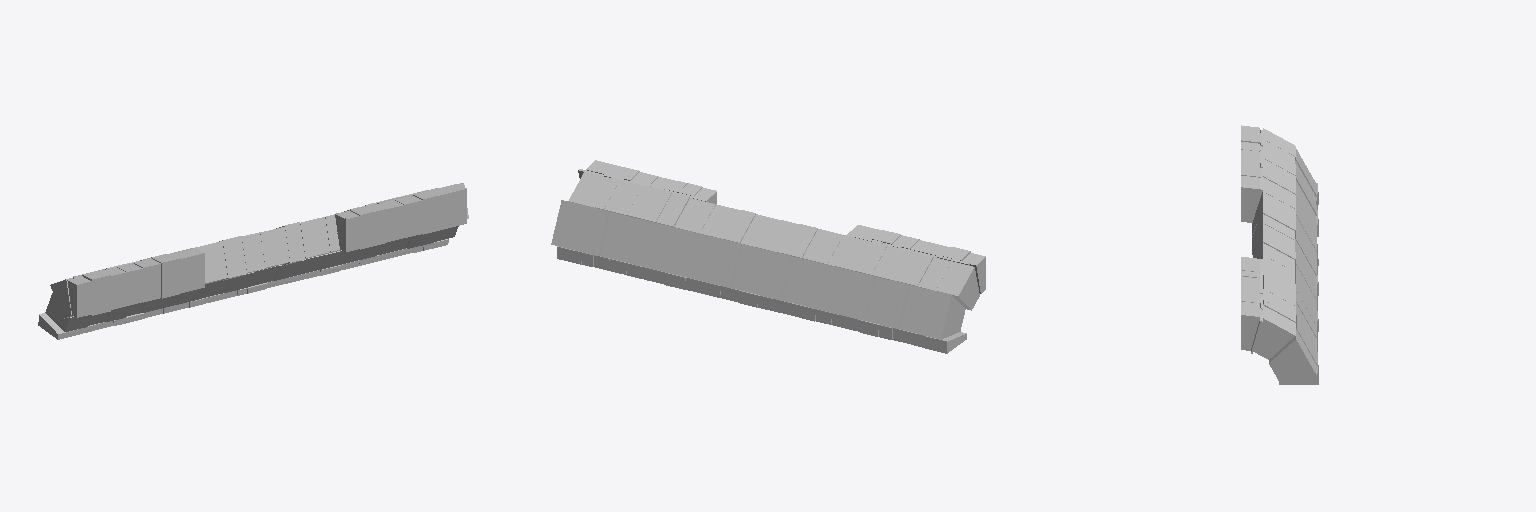
File: CurvedWall1.obj
3 views of the same model, side by side, from view 1: azimuth 30°, elevation 25°; view 2: azimuth 150°, elevation 25°; view 3: azimuth 270°, elevation 25° (orthographic).
Parts seen in each view (by area): view 1: CurvedWall_Wall.001; view 2: CurvedWall_Wall.001; view 3: CurvedWall_Wall.001.
Boxes of the visible parts, x1=… form: CurvedWall_Wall.001: x1=38, y1=183, x2=468, y2=339; CurvedWall_Wall.001: x1=551, y1=160, x2=985, y2=353; CurvedWall_Wall.001: x1=1241, y1=125, x2=1318, y2=384.
Bounding box in the file's own units: 23.96 × 4.08 × 4.08.